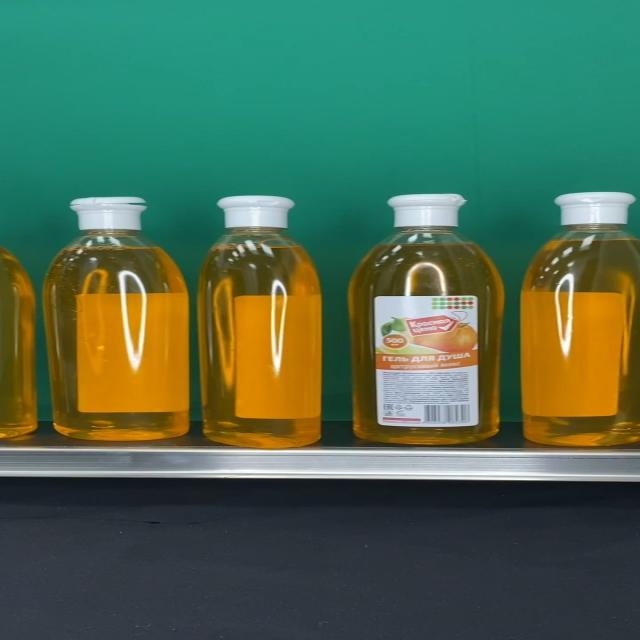Bottle: (350, 194, 505, 443), (42, 196, 190, 441), (196, 195, 323, 448), (518, 192, 640, 446)
Cap: (554, 192, 636, 226), (386, 195, 468, 228), (69, 196, 146, 230), (217, 195, 295, 228)
